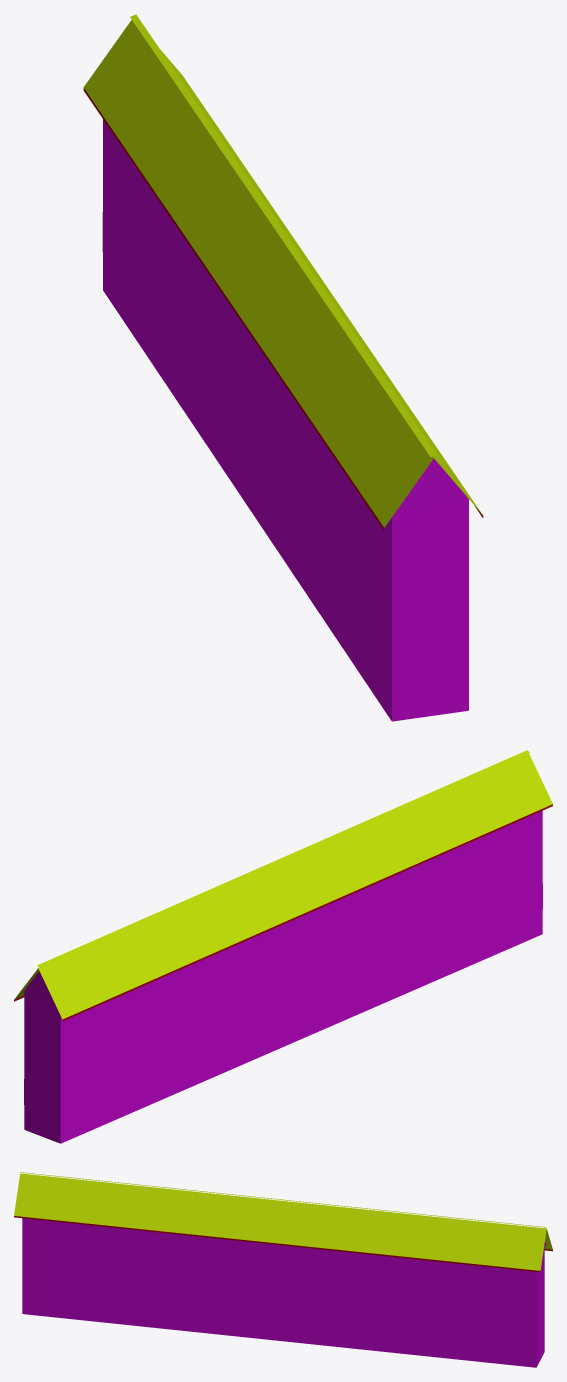
Rendered from ces_70.glb.
The picture shows the model from 3 angles, top to bottom: view 1: azimuth 30°, elevation 25°; view 2: azimuth 150°, elevation 25°; view 3: azimuth 270°, elevation 25°; orthographic projection. The views are drawn at different scales.
Visible parts, largest first — view 1: ces_70; view 2: ces_70; view 3: ces_70.
Boxes of the visible parts, <box> form: ces_70: <box>83,14,483,721</box>; ces_70: <box>14,750,552,1143</box>; ces_70: <box>14,1172,552,1367</box>.
Size of the model in its own units: 13.07 by 10.63 by 39.06.
